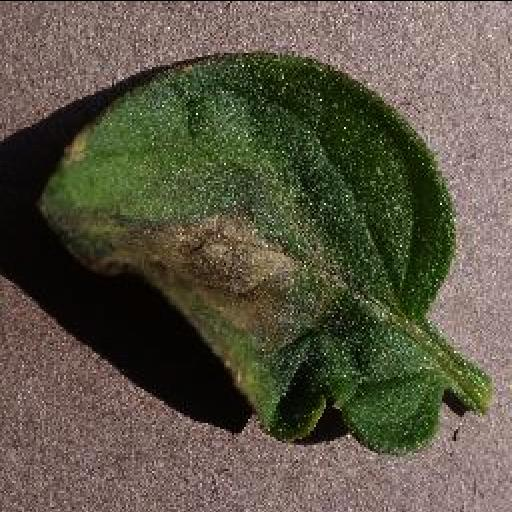disease_tomato: (32, 46, 458, 456)
